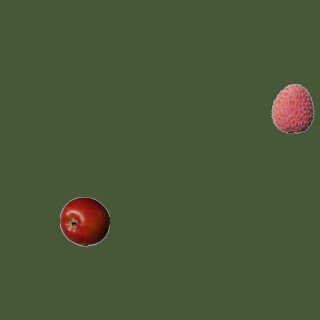Apple Braeburn: (59, 196, 109, 246)
Lychee: (267, 83, 317, 133)
